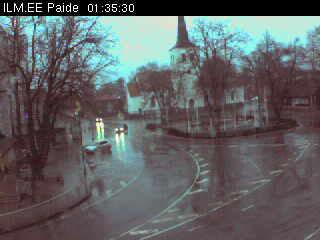car: (84, 139, 112, 156), (115, 122, 129, 135), (95, 114, 103, 123)
